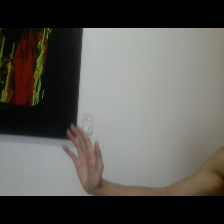left: (57, 120, 114, 193)
